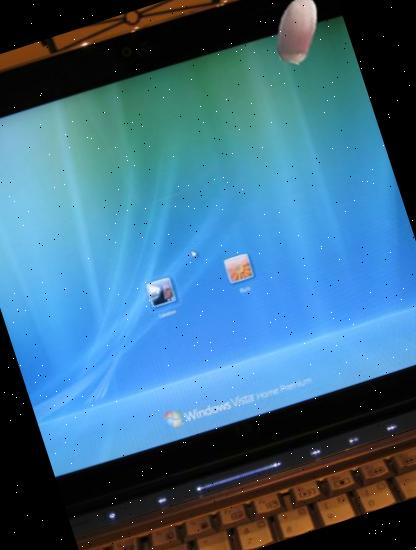Hazelnut: (253, 0, 341, 71)
